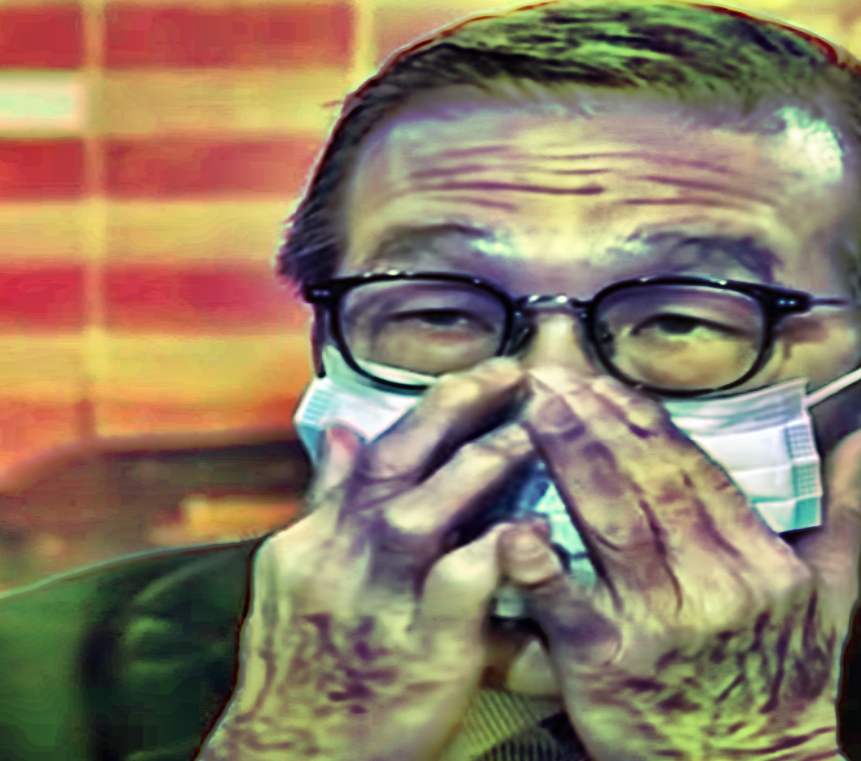mask_weared_incorrect: (294, 26, 861, 704)
